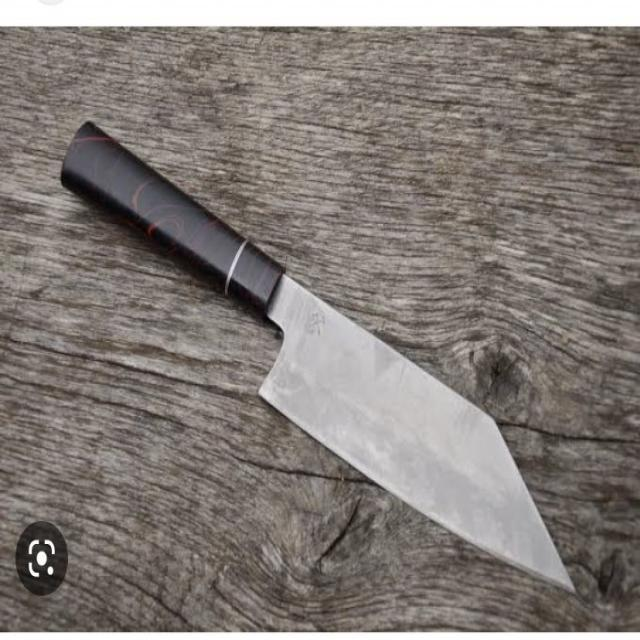Knife: (62, 112, 586, 601)
